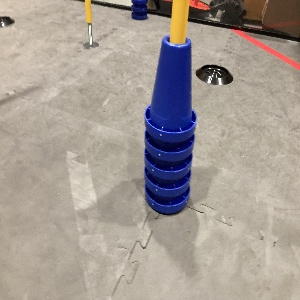Blue_3: (142, 34, 197, 215), (130, 0, 148, 19)
